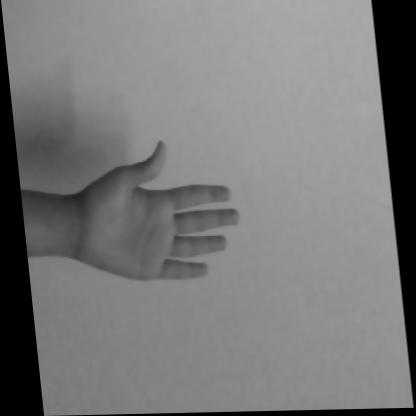palm: (18, 131, 250, 310)
